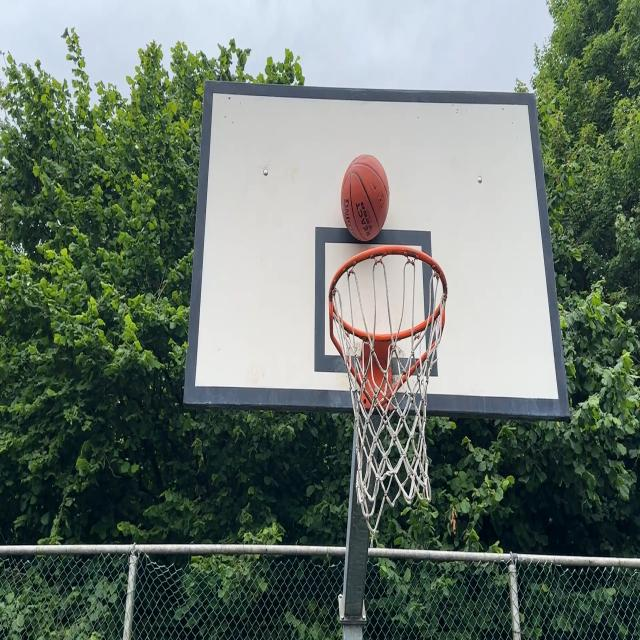rebound_hit: (340, 155, 390, 246)
